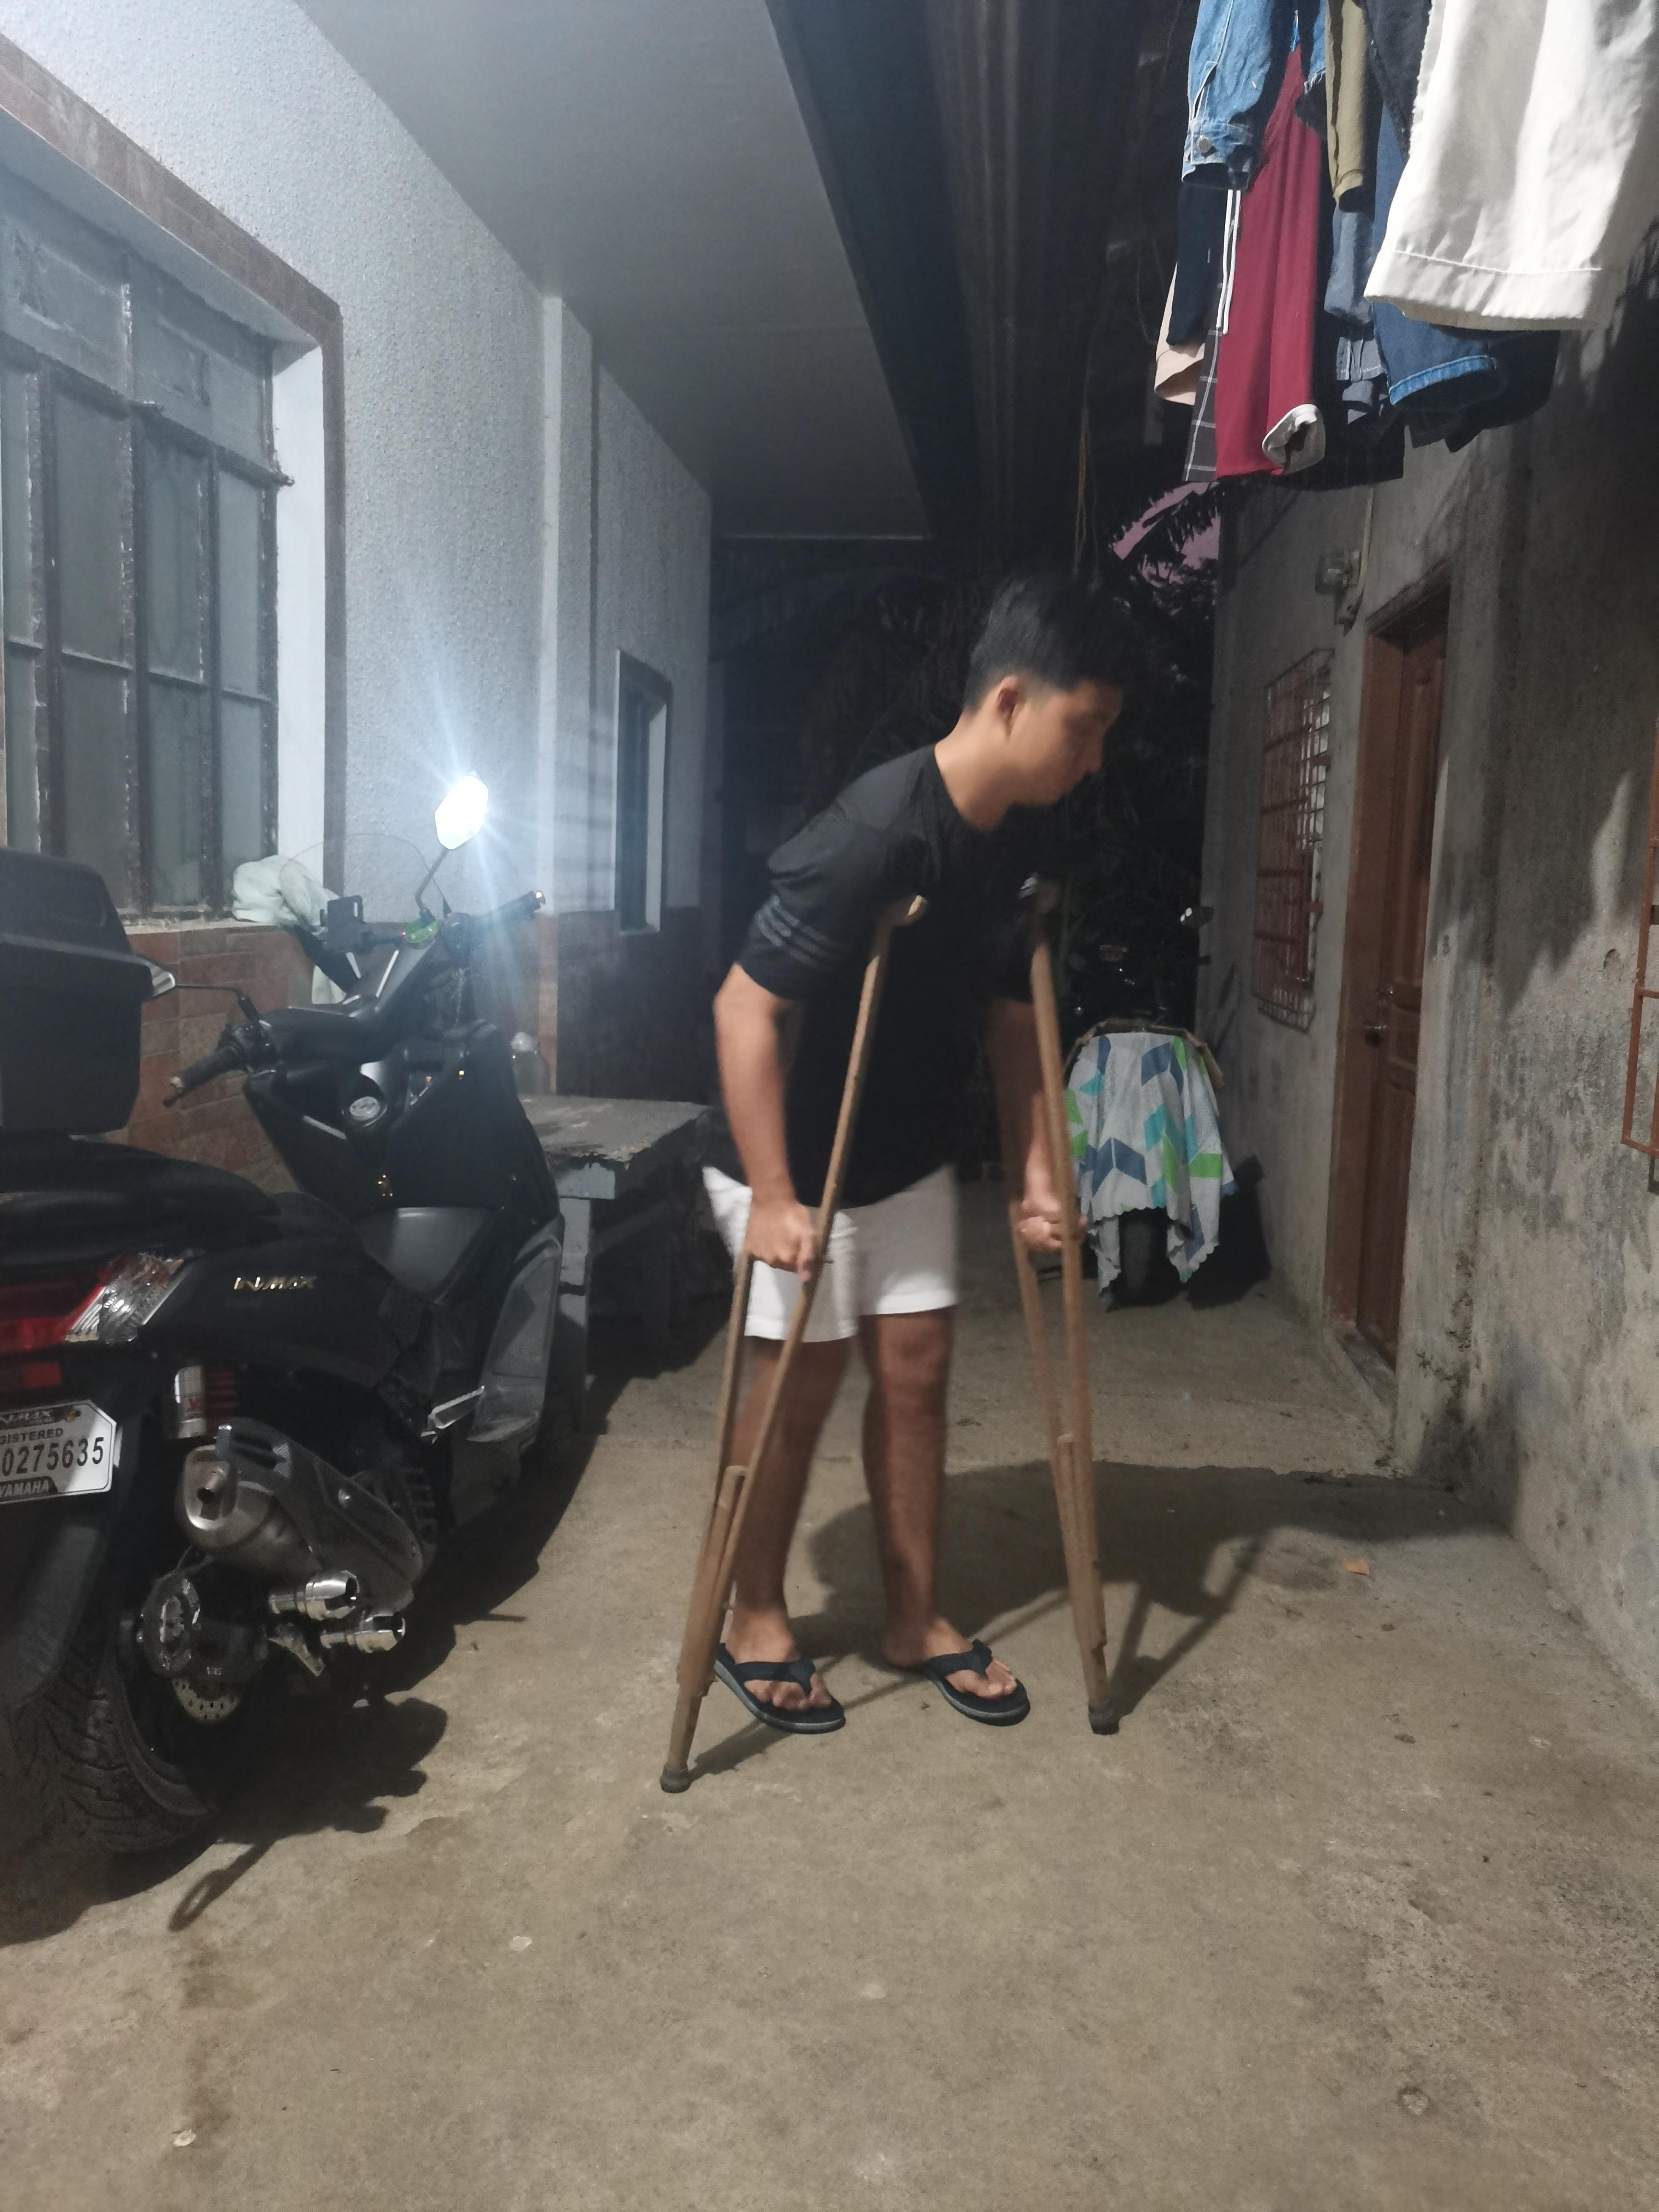crutches: (666, 590, 1122, 1794)
